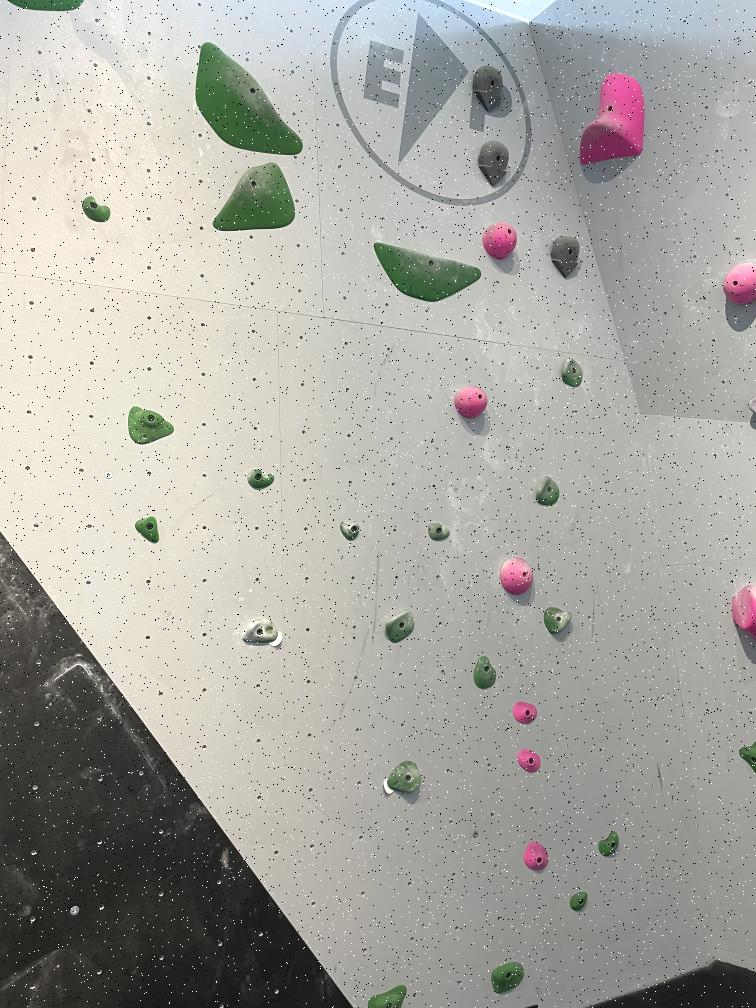Edges: (191, 37, 308, 157), (376, 243, 480, 301), (213, 161, 300, 230)
Foothold: (125, 403, 175, 446), (367, 989, 411, 1008), (82, 198, 114, 224), (136, 518, 165, 545), (474, 658, 498, 688), (245, 470, 280, 489), (426, 522, 454, 544), (340, 522, 363, 545)
Jug: (475, 137, 510, 186), (471, 65, 508, 106), (553, 230, 582, 277), (384, 761, 429, 791), (381, 608, 419, 640), (540, 606, 578, 636), (240, 620, 280, 646), (536, 478, 564, 506), (562, 360, 584, 390)
Sloper: (583, 76, 646, 158), (481, 224, 522, 262), (501, 555, 537, 596), (724, 261, 756, 302), (486, 963, 528, 990), (455, 387, 488, 419), (522, 846, 553, 874), (509, 698, 542, 724), (600, 831, 626, 858), (518, 753, 542, 774), (572, 891, 587, 912)
